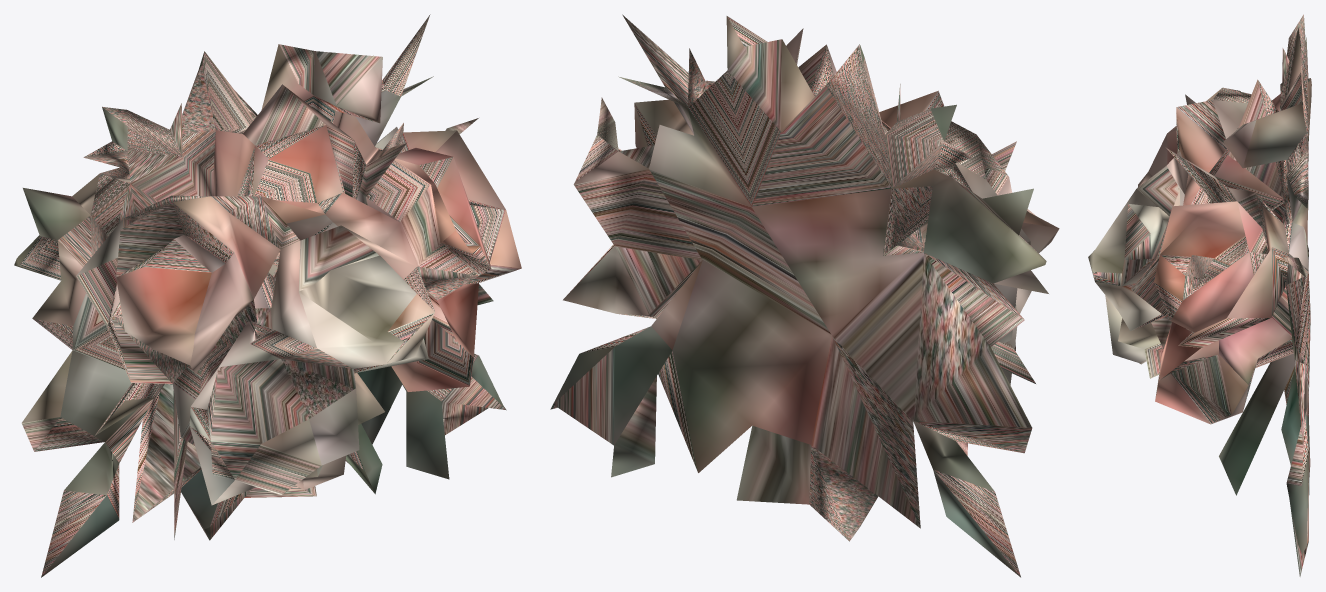
3 views of the same model, side by side, from view 1: azimuth 30°, elevation 25°; view 2: azimuth 150°, elevation 25°; view 3: azimuth 270°, elevation 25° (orthographic). The views are drawn at different scales.
Visible parts, largest first — view 1: Rose-Bouquet-9-27; view 2: Rose-Bouquet-9-27; view 3: Rose-Bouquet-9-27.
Part boxes in pixels (left/top/right/bottom): Rose-Bouquet-9-27: left=14, top=14, right=521, bottom=577; Rose-Bouquet-9-27: left=550, top=14, right=1059, bottom=577; Rose-Bouquet-9-27: left=1088, top=14, right=1311, bottom=576.
Bounding box in the file's own units: 0.2832 × 0.2716 × 0.1235.
Materials: 1 (1 with a texture image).
